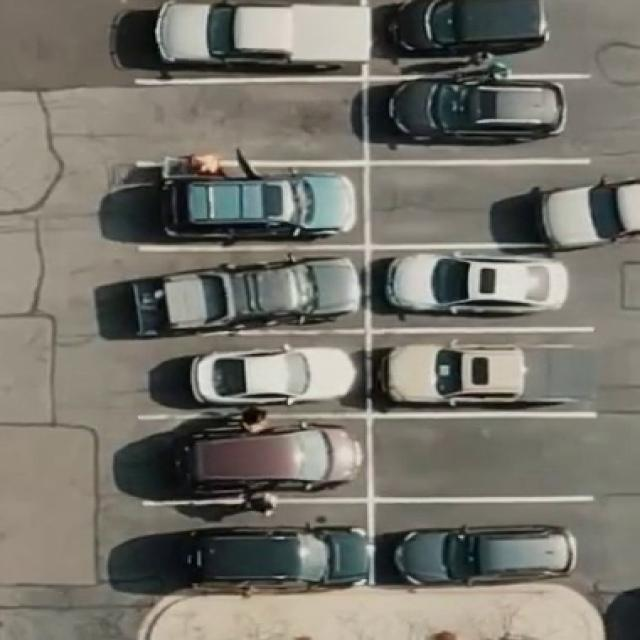empty: (382, 423, 588, 492), (142, 90, 352, 154)
notEmpty: (140, 256, 362, 326), (142, 1, 362, 71), (146, 516, 360, 587), (383, 339, 606, 405), (384, 512, 594, 582), (378, 1, 588, 71), (142, 426, 362, 492), (146, 171, 356, 239), (144, 342, 357, 408), (374, 171, 586, 237), (375, 85, 587, 150), (378, 255, 590, 319)
